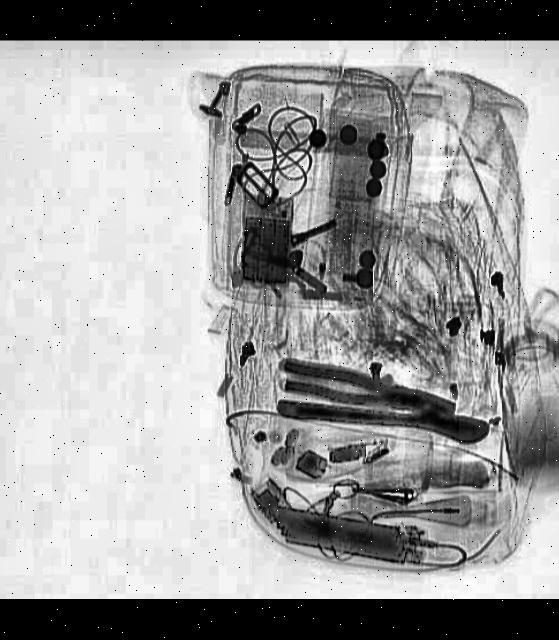Pliers: (276, 356, 434, 419)
Wrench: (272, 384, 487, 443)
